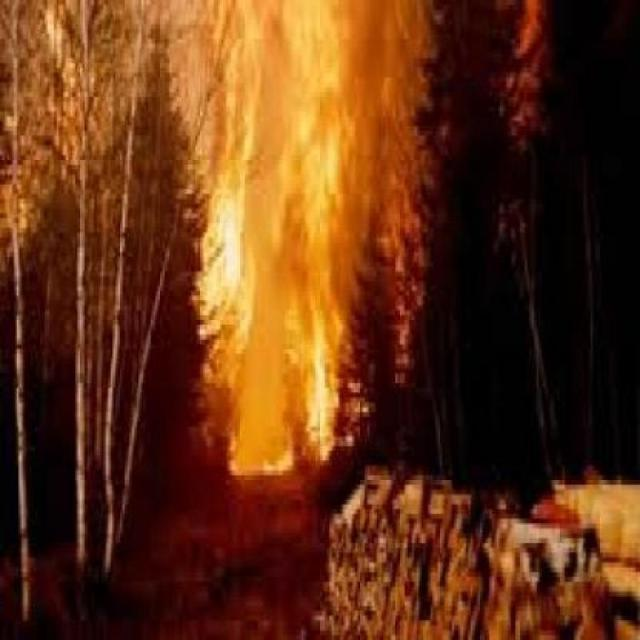Fire: (192, 177, 340, 488)
